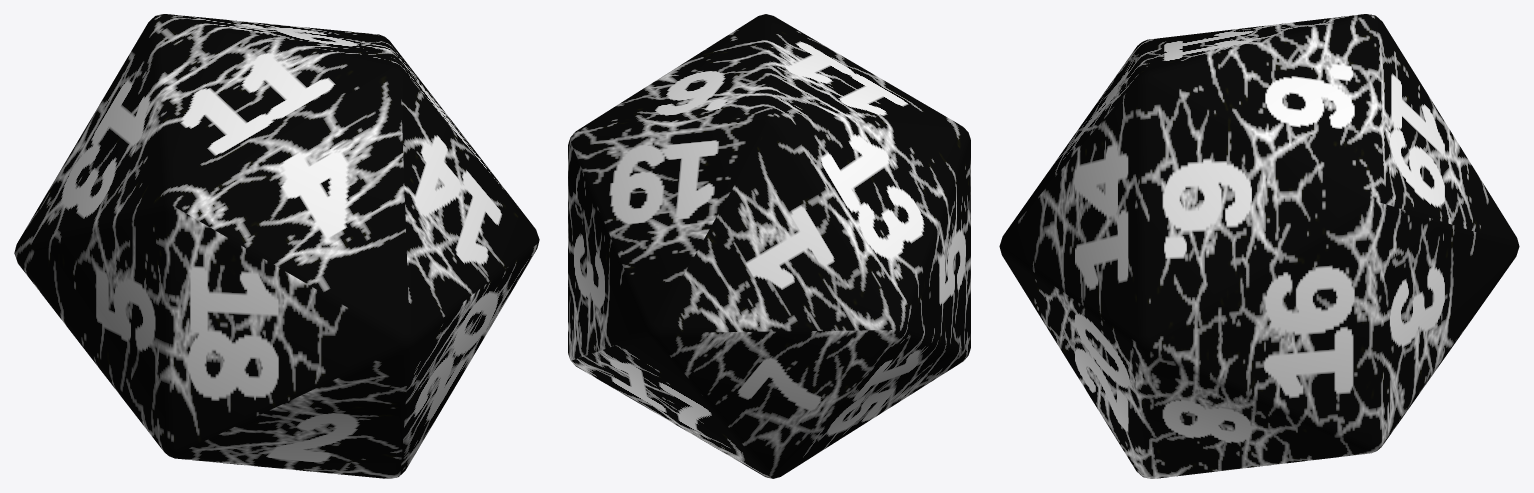
3 renders of one model, left to right at view 1: azimuth 30°, elevation 25°; view 2: azimuth 150°, elevation 25°; view 3: azimuth 270°, elevation 25°, orthographic. The views are drawn at different scales.
Visible parts, largest first — view 1: 20White_20White_0; view 2: 20White_20White_0; view 3: 20White_20White_0.
Boxes of the visible parts, <box> form: 20White_20White_0: <box>14,14,539,478</box>; 20White_20White_0: <box>568,14,970,478</box>; 20White_20White_0: <box>999,14,1519,478</box>.
Bounding box in the file's own units: 1.77 × 1.69 × 1.97.
Materials: 1 (1 with a texture image).
